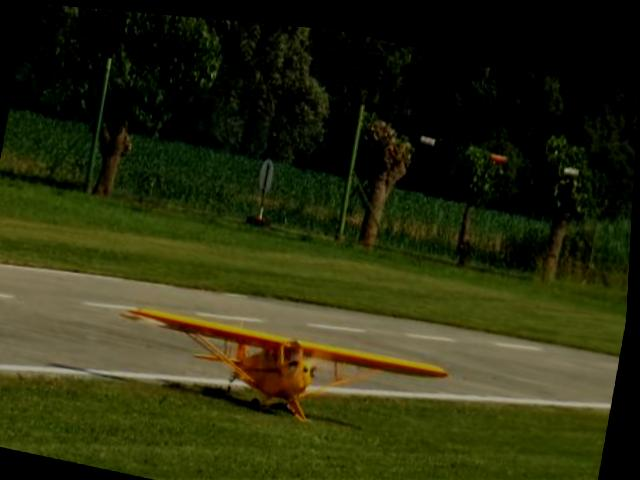uav: (110, 288, 456, 442)
